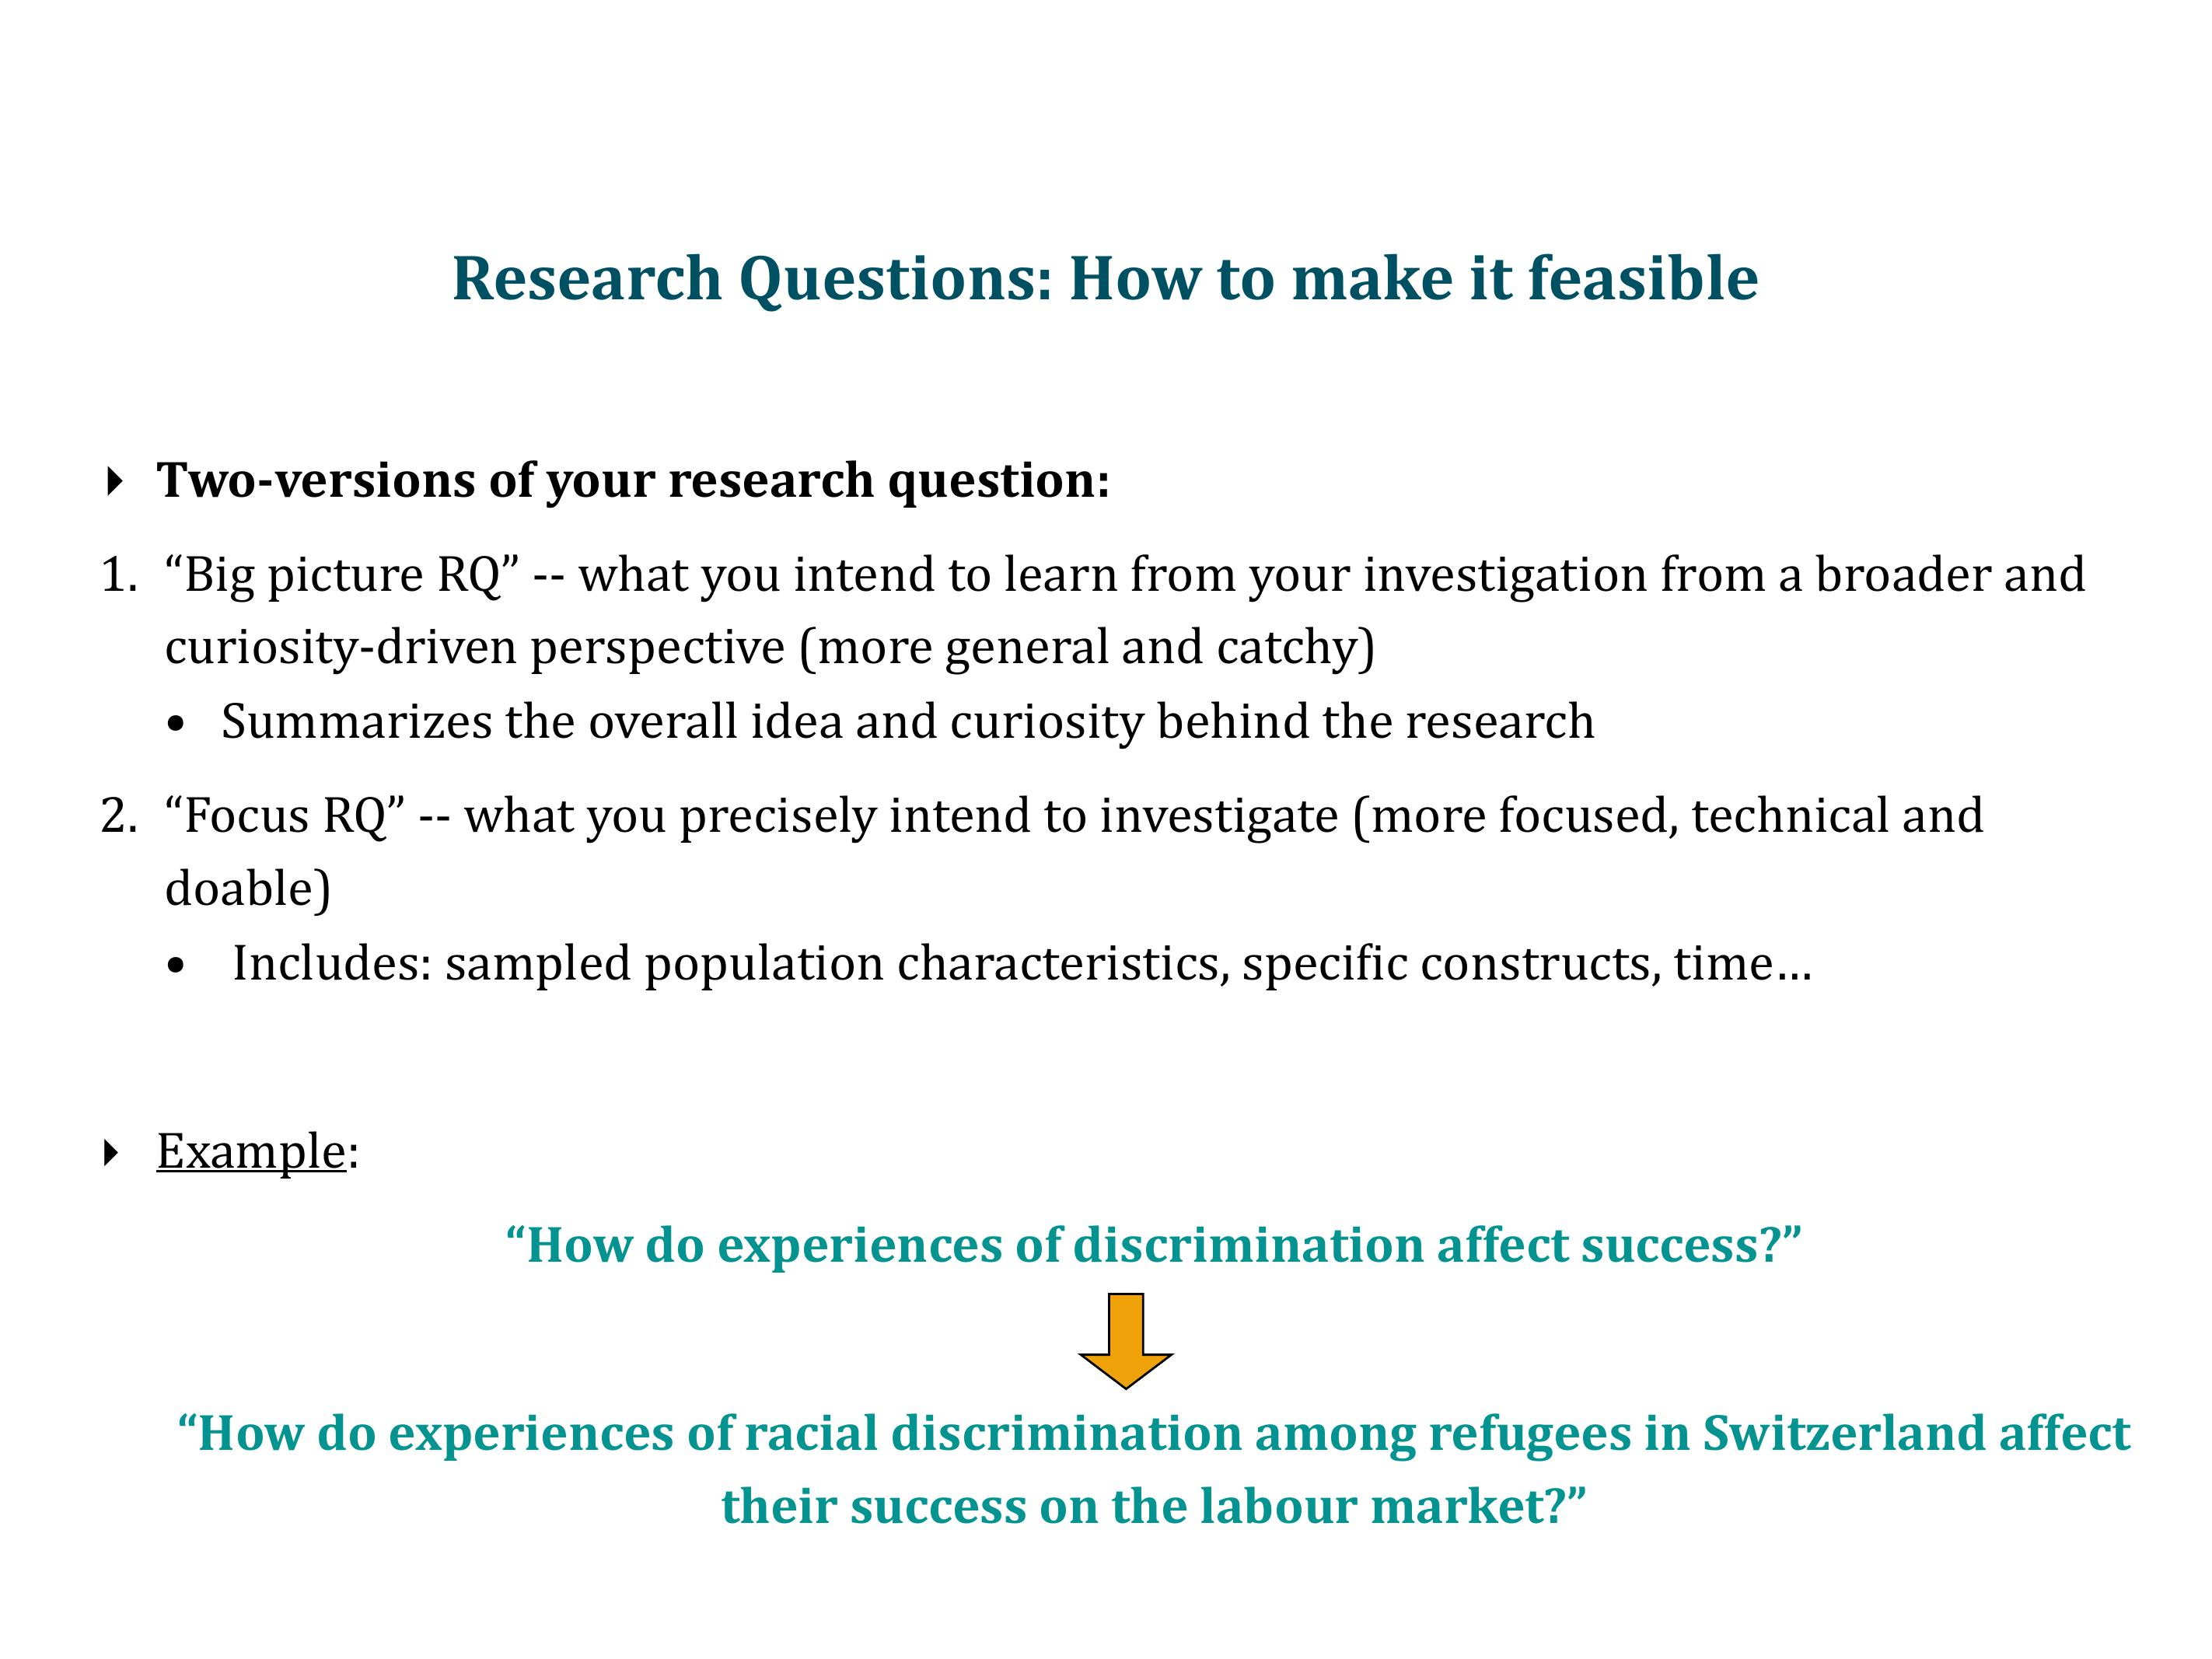Title: (441, 230, 1783, 335)
